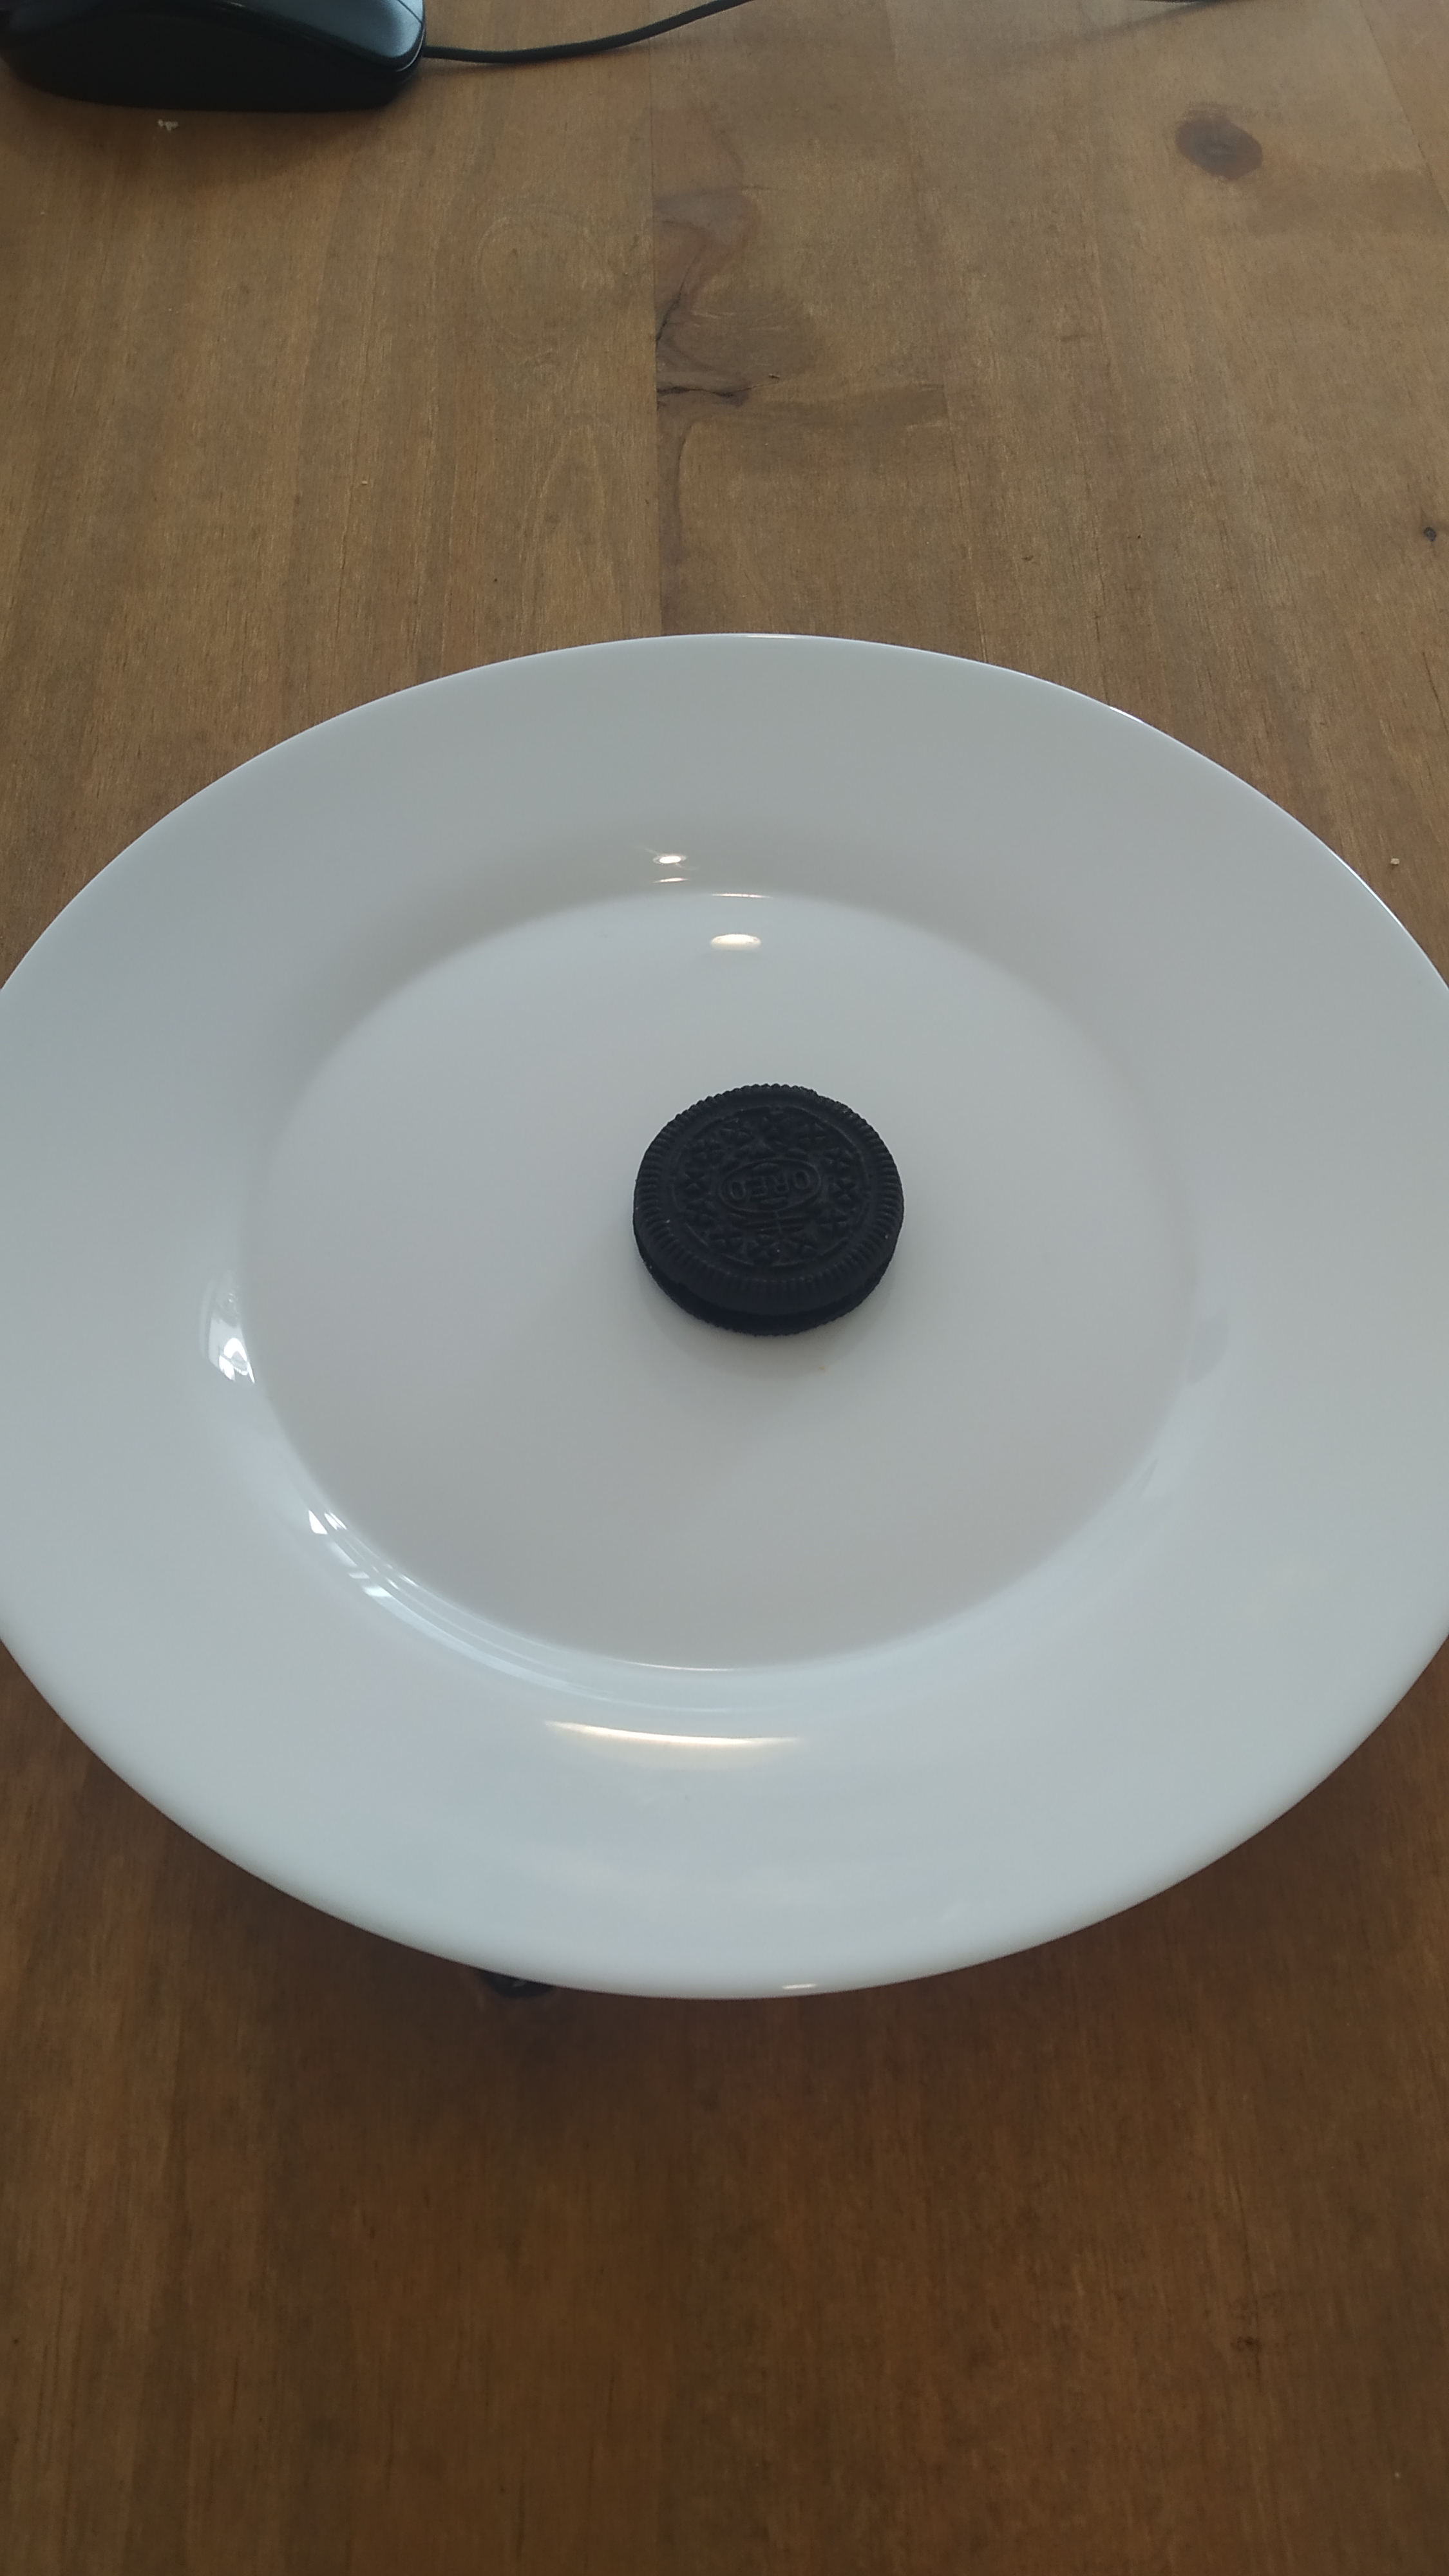oreo: (633, 1085, 906, 1338)
